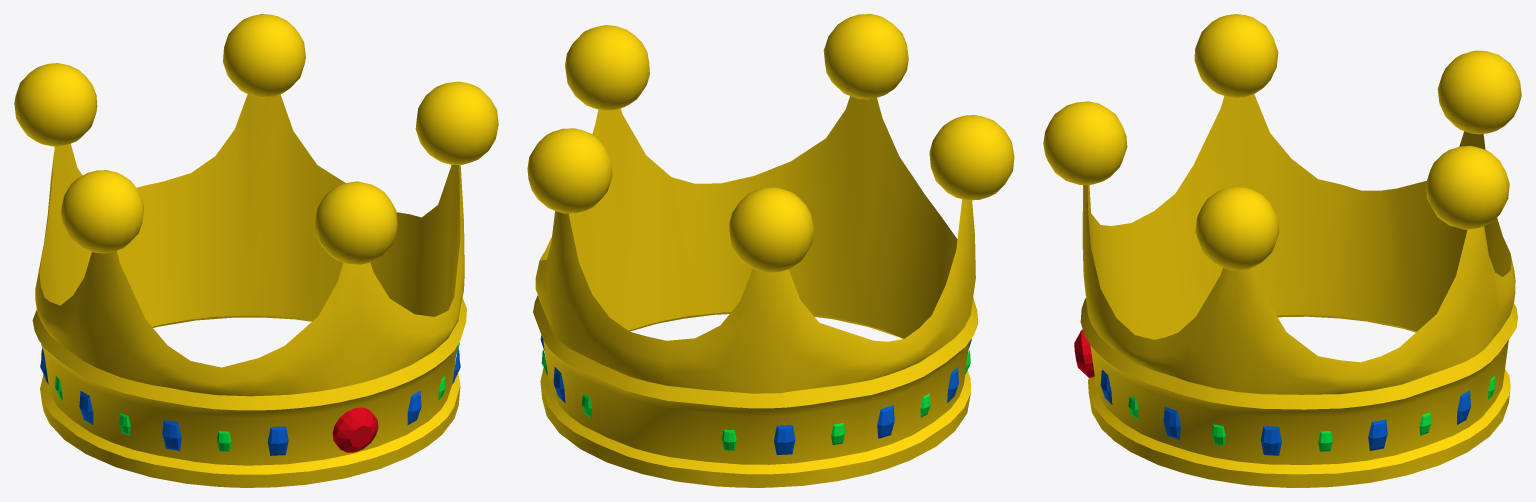
File: Crown.fbx
3 renders of one model, left to right at view 1: azimuth 30°, elevation 25°; view 2: azimuth 150°, elevation 25°; view 3: azimuth 270°, elevation 25°, orthographic. The views are drawn at different scales.
Parts seen in each view (by area): view 1: Crown, jewelry.001, jewelry1, jewelry; view 2: Crown, jewelry.001, jewelry; view 3: Crown, jewelry.001, jewelry, jewelry1.
Part boxes in pixels (box(x1,y1,x2,y2)): Crown: box(14, 14, 498, 487); jewelry.001: box(40, 348, 460, 455); jewelry1: box(332, 407, 378, 452); jewelry: box(41, 342, 459, 451); Crown: box(527, 14, 1014, 487); jewelry.001: box(540, 335, 971, 454); jewelry: box(541, 350, 970, 450); Crown: box(1043, 14, 1521, 487); jewelry.001: box(1100, 369, 1470, 455); jewelry: box(1128, 375, 1495, 451); jewelry1: box(1074, 329, 1094, 377).
Size of the model in its own units: 1179 by 789 by 1139.
